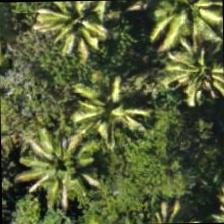Kelapa_Sawit: (13, 121, 105, 213), (80, 64, 172, 156), (162, 30, 224, 122), (42, 0, 134, 57), (148, 0, 223, 52)
